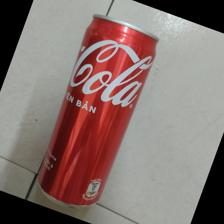Coca: (34, 12, 159, 209)
